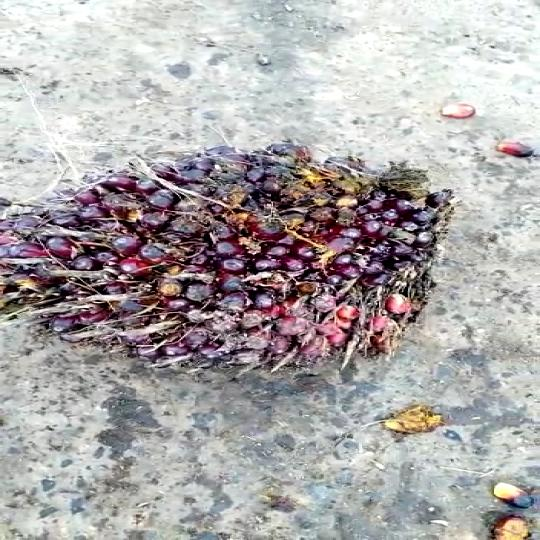masak: (0, 142, 453, 372)
